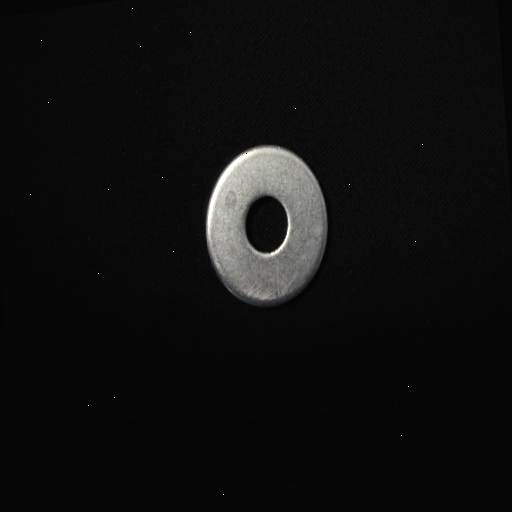Product: (205, 146, 327, 307)
Scratch: (238, 267, 302, 312), (244, 234, 284, 264)
